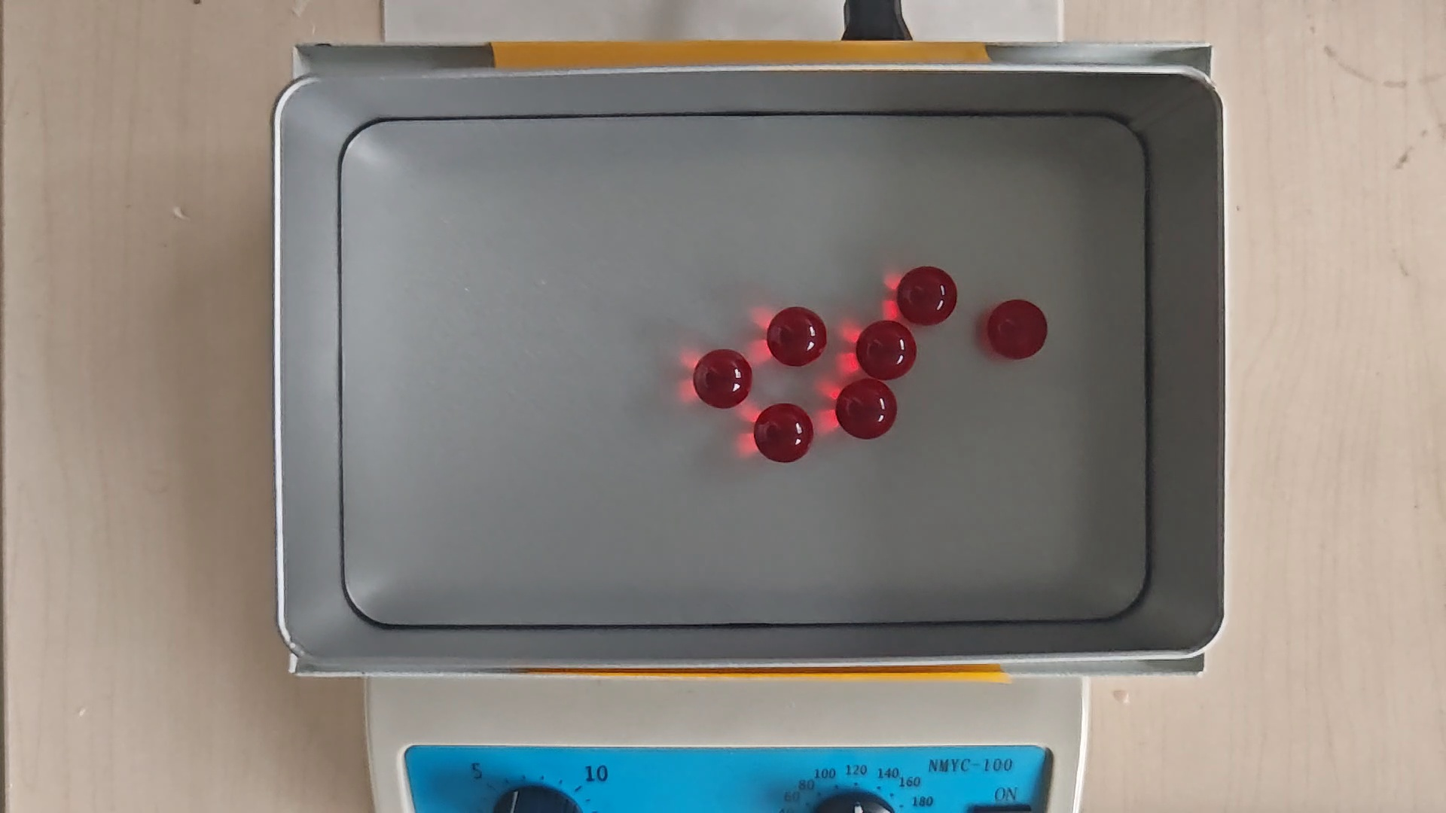ball: (856, 319, 917, 380), (989, 298, 1048, 361), (754, 404, 816, 463), (767, 305, 826, 367), (694, 349, 752, 410), (897, 266, 958, 324), (840, 379, 895, 440)
container: (337, 112, 1145, 624)
